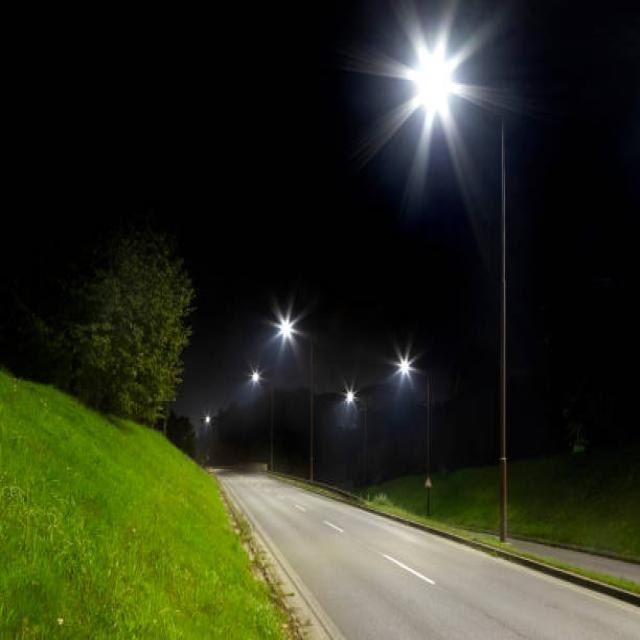acesa: (343, 14, 531, 175), (265, 299, 311, 353), (391, 351, 419, 384), (337, 378, 362, 410), (246, 364, 266, 388)
